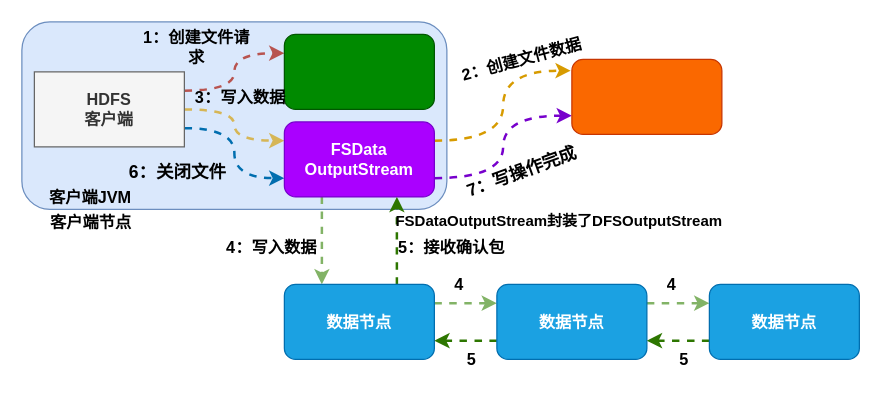
The diagram is 881 pixels wide and 394 high, and some of its shapes have lost their labels. The box of each missing label's shape, as (x1, y1, x2, y2) in pixels:
Distributed FileSystem: (283, 33, 434, 109)
名称节点: (571, 58, 722, 134)
